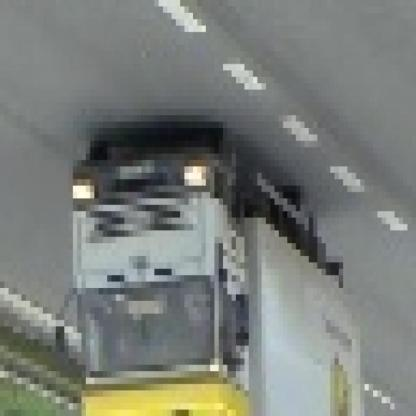truck: (53, 142, 357, 416)
